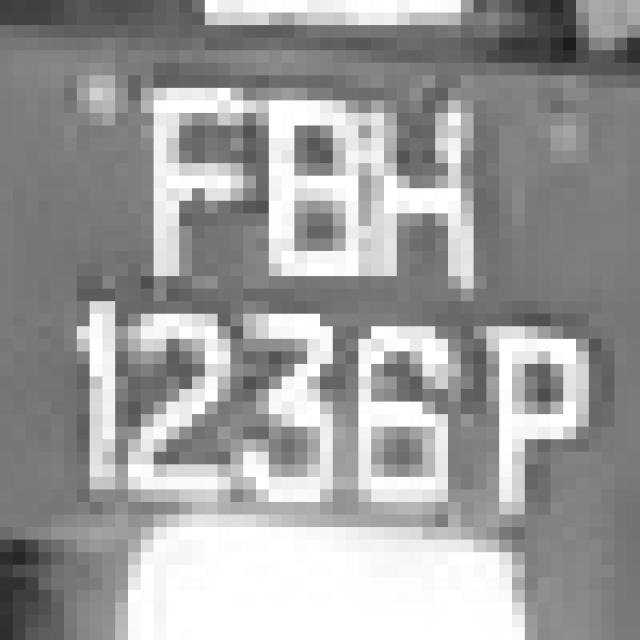1: (26, 251, 128, 565)
2: (115, 289, 243, 527)
3: (192, 238, 346, 527)
6: (333, 289, 461, 552)
B: (218, 50, 358, 314)
F: (115, 13, 243, 326)
H: (320, 88, 499, 326)
P: (448, 251, 602, 590)
